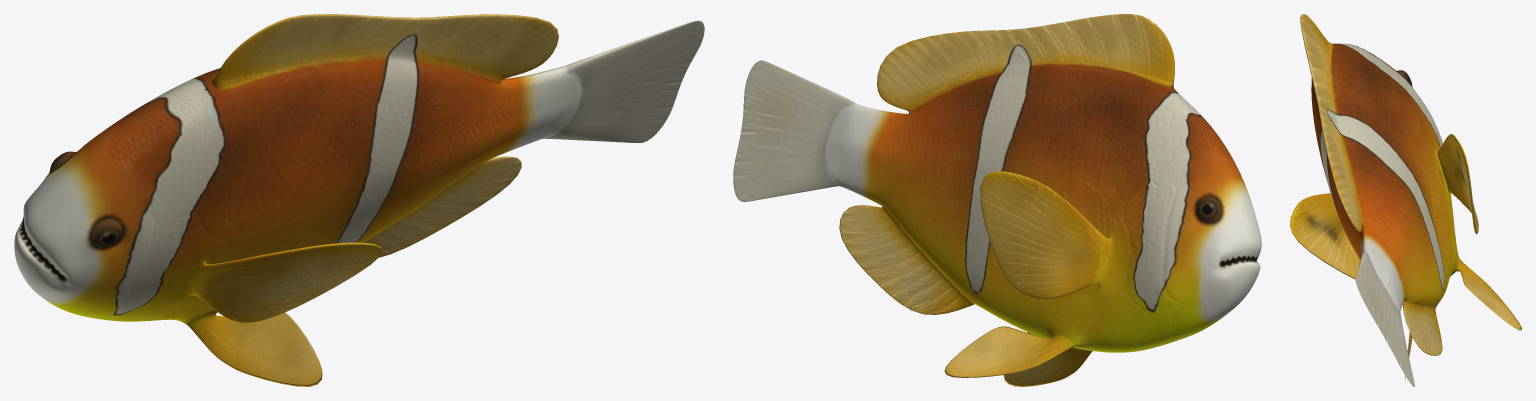
Rendered from fish1.obj.
3 views of the same model, side by side, from view 1: azimuth 30°, elevation 25°; view 2: azimuth 150°, elevation 25°; view 3: azimuth 270°, elevation 25° (orthographic). The views are drawn at different scales.
Parts seen in each view (by area): view 1: 12265_Fish_v1_L2; view 2: 12265_Fish_v1_L2; view 3: 12265_Fish_v1_L2.
Boxes of the visible parts, bbox=[...] form: 12265_Fish_v1_L2: bbox=[14, 14, 704, 386]; 12265_Fish_v1_L2: bbox=[733, 14, 1261, 386]; 12265_Fish_v1_L2: bbox=[1290, 14, 1521, 386].
Bounding box in the file's own units: 3.62 × 2.3 × 1.47.
Materials: 1 (1 with a texture image).
